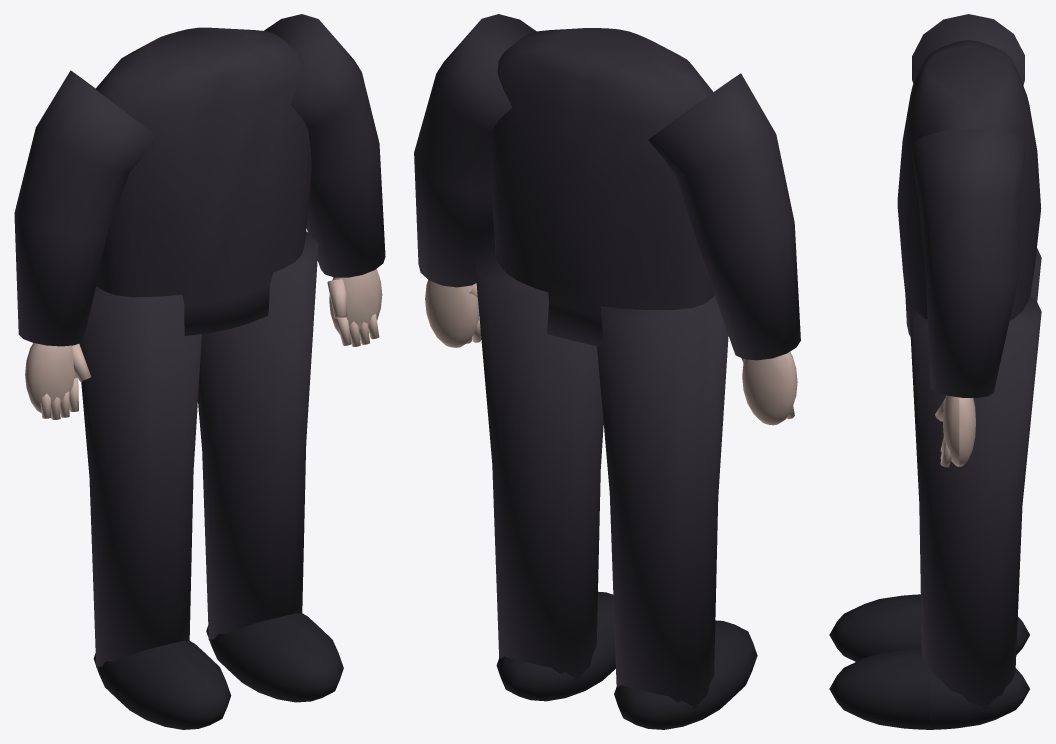
The model's file is hydra-body.glb.
3 views of the same model, side by side, from view 1: azimuth 30°, elevation 25°; view 2: azimuth 150°, elevation 25°; view 3: azimuth 270°, elevation 25° (orthographic). The views are drawn at different scales.
Visible parts, largest first — view 1: hydra_body_mesh; view 2: hydra_body_mesh; view 3: hydra_body_mesh.
Part boxes in pixels (bbox=[...]): hydra_body_mesh: bbox=[14, 14, 385, 729]; hydra_body_mesh: bbox=[414, 14, 800, 729]; hydra_body_mesh: bbox=[829, 14, 1041, 729].
Size of the model in its own units: 0.8903 by 1.51 by 0.465.
